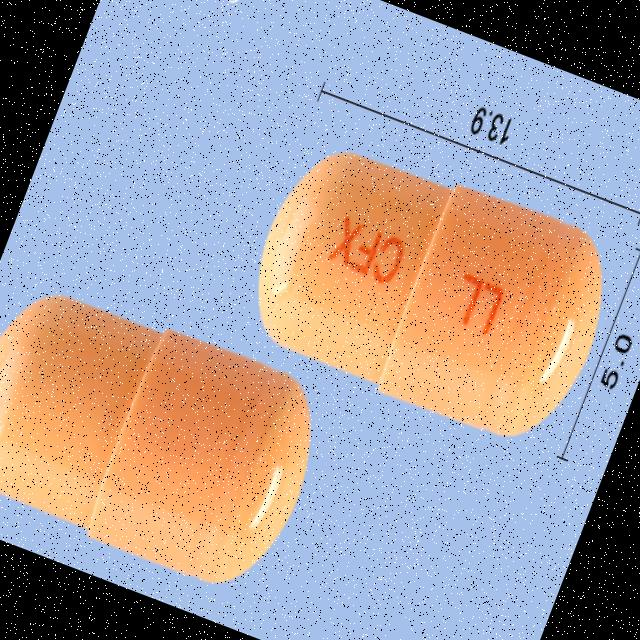Cefaxamin Cap: (222, 120, 634, 464), (0, 260, 343, 609)
